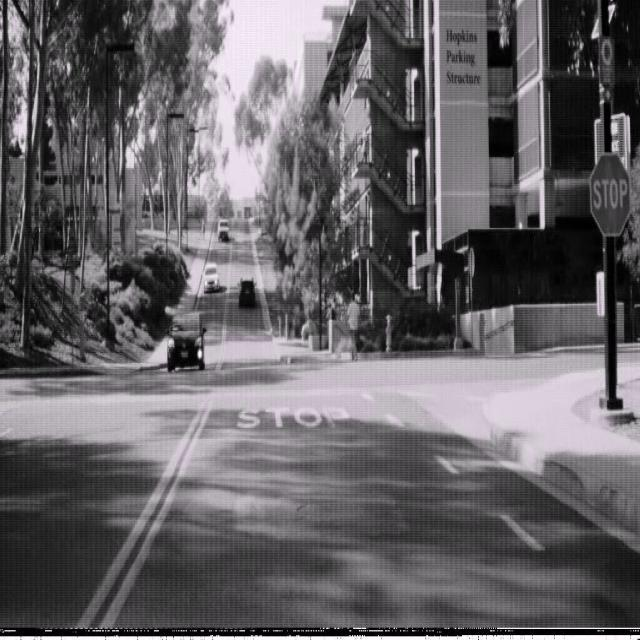stop: (589, 150, 631, 237)
